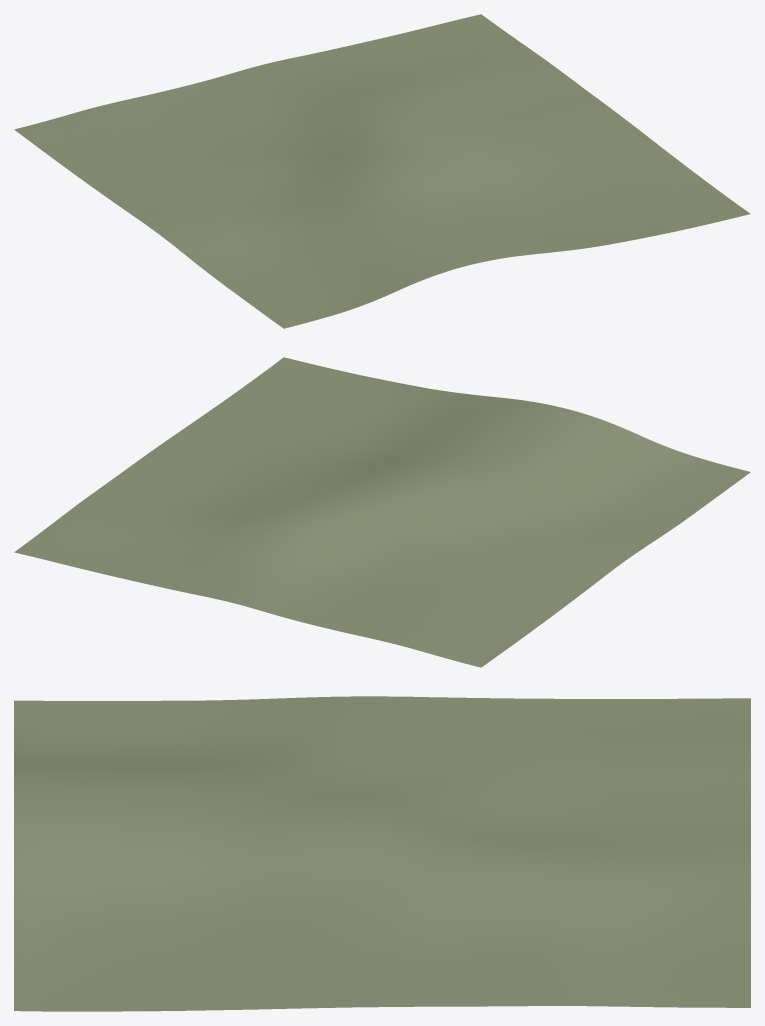
3 renders of one model, top to bottom at view 1: azimuth 30°, elevation 25°; view 2: azimuth 150°, elevation 25°; view 3: azimuth 270°, elevation 25°, orthographic. The views are drawn at different scales.
Visible parts, largest first — view 1: ground; view 2: ground; view 3: ground.
Part boxes in pixels (left/top/right/bottom): ground: left=14, top=14, right=750, bottom=328; ground: left=14, top=357, right=750, bottom=667; ground: left=14, top=696, right=750, bottom=1011.
Bounding box in the file's own units: 250 × 9.86 × 250.
